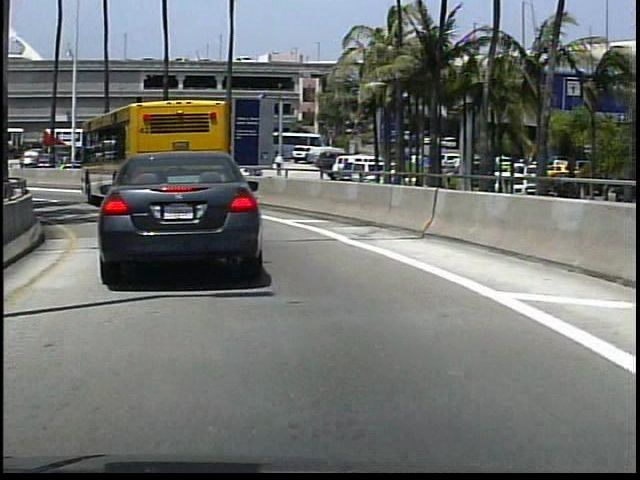person: (269, 152, 284, 183)
